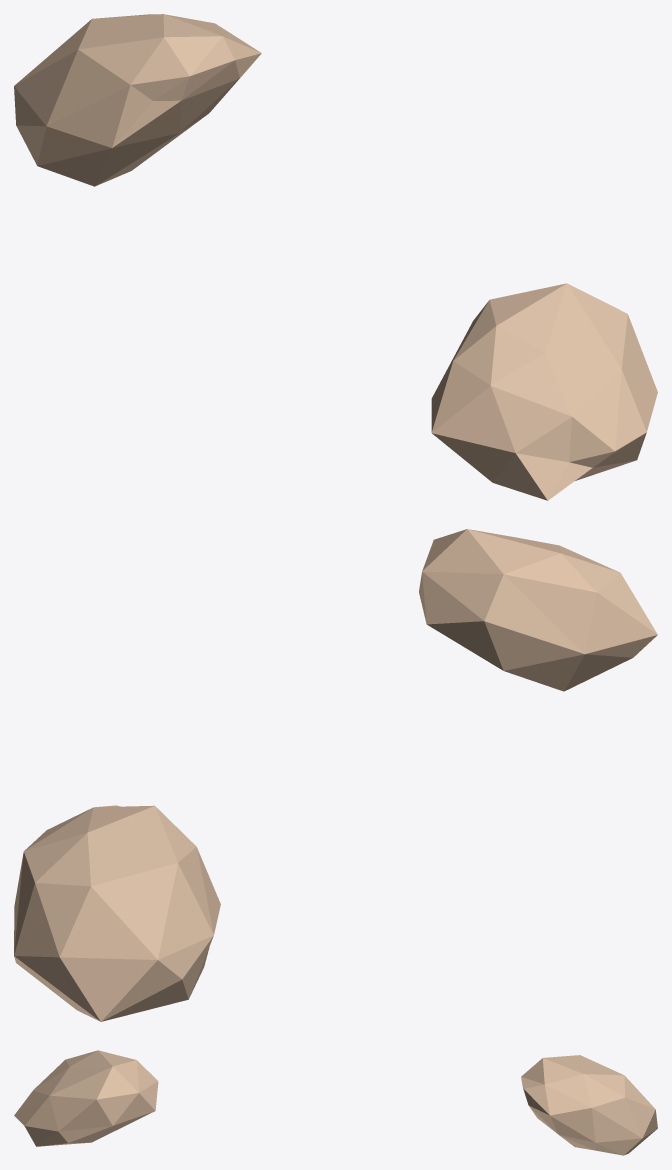
3 views of the same model, one above another, from view 1: azimuth 30°, elevation 25°; view 2: azimuth 150°, elevation 25°; view 3: azimuth 270°, elevation 25° (orthographic). The views are drawn at different scales.
Visible parts, largest first — view 1: 318.obj; view 2: 318.obj; view 3: 318.obj.
Boxes of the visible parts, box(x1,y1,x2,y2) form: 318.obj: box(14, 14, 657, 500); 318.obj: box(14, 529, 657, 1021); 318.obj: box(14, 1050, 657, 1155).
Bounding box in the file's own units: 170 × 118 × 704.
